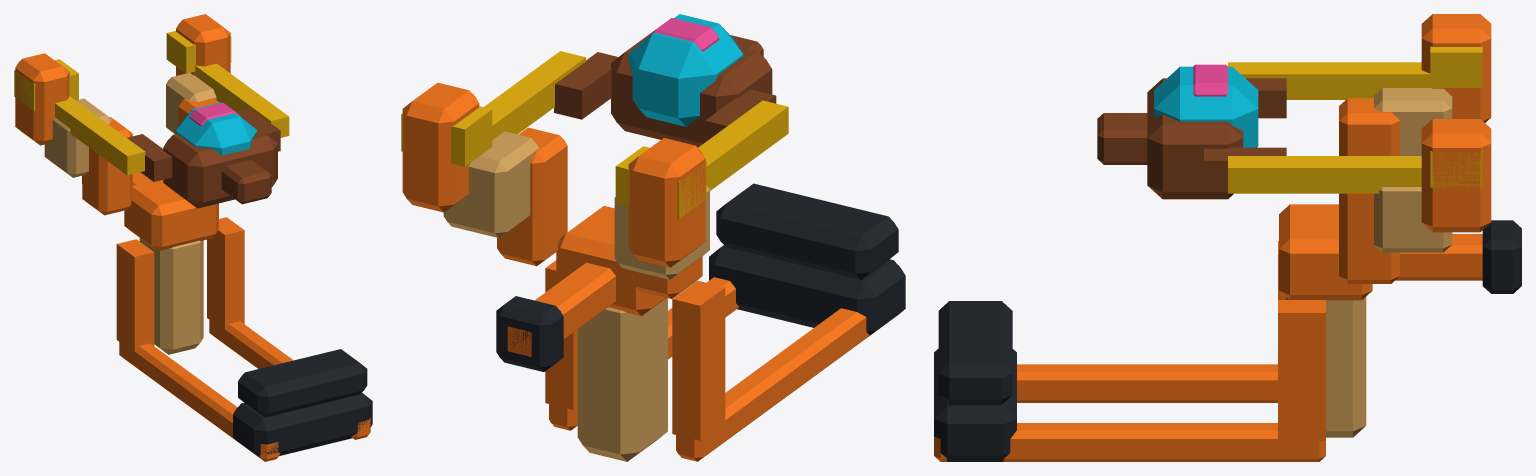
The model's file is launcher_water_balloon_slingshot.glb.
The picture shows the model from 3 angles, left to right: view 1: azimuth 30°, elevation 25°; view 2: azimuth 150°, elevation 25°; view 3: azimuth 270°, elevation 25°; orthographic projection. The views are drawn at different scales.
Visible parts, largest first — view 1: body, wrist_cuff, pouch_pull, birch_handle, latex_band_l; view 2: body, wrist_cuff, birch_handle, pouch_pull, latex_band_l; view 3: body, pouch_pull, latex_band_l, wrist_cuff, birch_handle.
Part boxes in pixels (left/top/right/bottom): body: left=15, top=14, right=370, bottom=461; wrist_cuff: left=82, top=176, right=372, bottom=456; pouch_pull: left=127, top=102, right=280, bottom=208; birch_handle: left=44, top=73, right=218, bottom=354; latex_band_l: left=14, top=31, right=289, bottom=175; body: left=402, top=82, right=902, bottom=461; wrist_cuff: left=496, top=183, right=905, bottom=371; birch_handle: left=443, top=131, right=709, bottom=461; pouch_pull: left=554, top=14, right=776, bottom=147; latex_band_l: left=401, top=51, right=788, bottom=218; body: left=934, top=14, right=1491, bottom=461; pouch_pull: left=1097, top=64, right=1286, bottom=199; latex_band_l: left=1228, top=46, right=1482, bottom=193; wrist_cuff: left=934, top=220, right=1521, bottom=461; birch_handle: left=1285, top=88, right=1452, bottom=437.
Size of the model in its own units: 0.28 by 0.36 by 0.54.
